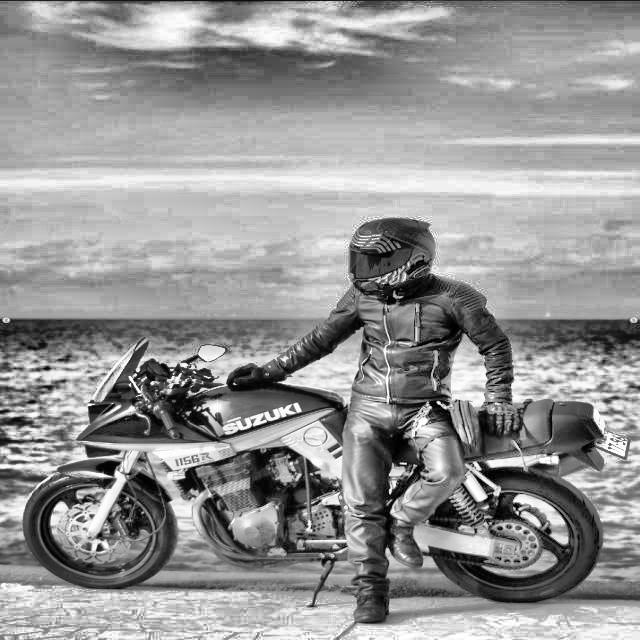Helmet: (344, 213, 442, 300)
